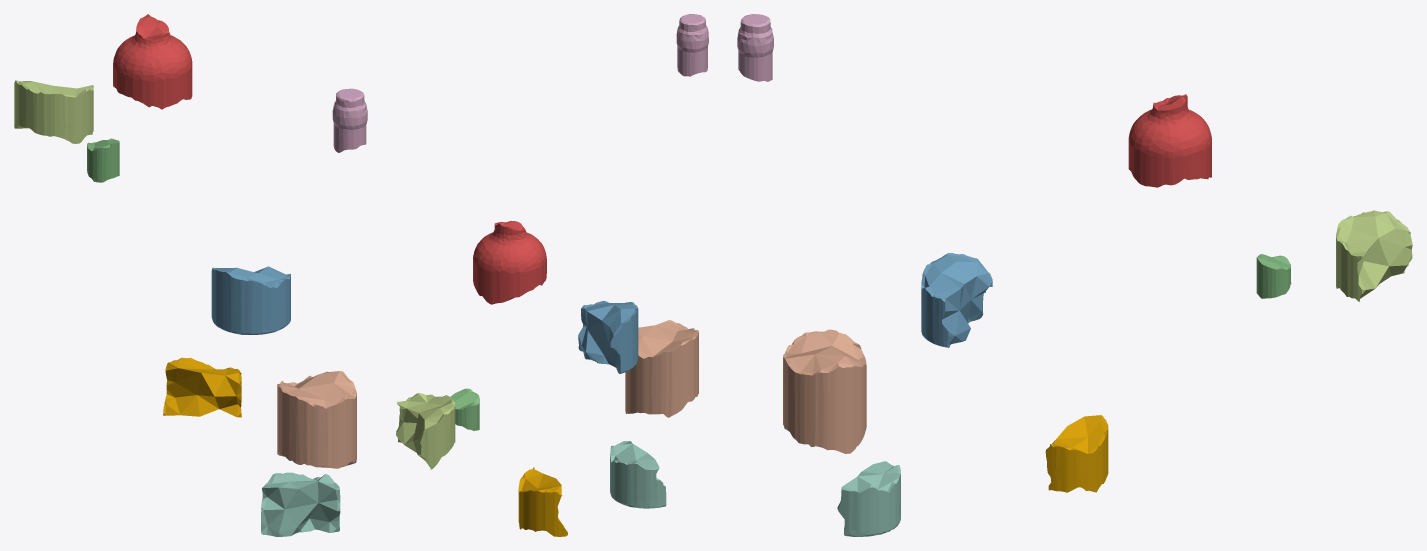
The model's file is fractured_62_8pcs_transformed.glb.
The picture shows the model from 3 angles, left to right: view 1: azimuth 30°, elevation 25°; view 2: azimuth 150°, elevation 25°; view 3: azimuth 270°, elevation 25°; orthographic projection. The views are drawn at different scales.
Parts seen in each view (by area): view 1: piece_7.obj, piece_1.obj, piece_2.obj, piece_4.obj, piece_5.obj, piece_0.obj, piece_6.obj, piece_3.obj; view 2: piece_7.obj, piece_1.obj, piece_2.obj, piece_5.obj, piece_4.obj, piece_0.obj, piece_6.obj, piece_3.obj; view 3: piece_7.obj, piece_1.obj, piece_5.obj, piece_2.obj, piece_0.obj, piece_4.obj, piece_6.obj, piece_3.obj.
Part boxes in pixels (x1,y1,x2,y2): piece_7.obj: [277, 371, 356, 468]; piece_1.obj: [113, 14, 192, 109]; piece_2.obj: [211, 266, 290, 334]; piece_4.obj: [261, 472, 340, 536]; piece_5.obj: [14, 80, 93, 143]; piece_0.obj: [163, 357, 241, 417]; piece_6.obj: [332, 88, 367, 152]; piece_3.obj: [87, 138, 119, 182]; piece_7.obj: [625, 320, 698, 417]; piece_1.obj: [473, 221, 546, 304]; piece_2.obj: [578, 300, 638, 373]; piece_5.obj: [396, 393, 455, 469]; piece_4.obj: [610, 441, 666, 508]; piece_0.obj: [518, 467, 567, 536]; piece_6.obj: [676, 14, 708, 76]; piece_3.obj: [451, 388, 479, 430]; piece_7.obj: [783, 329, 866, 453]; piece_1.obj: [1128, 94, 1211, 187]; piece_5.obj: [1336, 210, 1412, 301]; piece_2.obj: [921, 252, 992, 347]; piece_0.obj: [1045, 415, 1108, 492]; piece_4.obj: [837, 461, 900, 536]; piece_6.obj: [737, 14, 773, 81]; piece_3.obj: [1256, 254, 1291, 298].
Size of the model in its own units: 0.2419 by 1.6 by 1.95.
